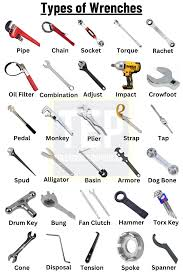Wrench: (44, 60, 73, 90), (5, 21, 39, 46), (8, 232, 35, 262), (146, 19, 173, 46), (8, 148, 35, 175), (114, 19, 140, 47), (79, 61, 104, 89)
